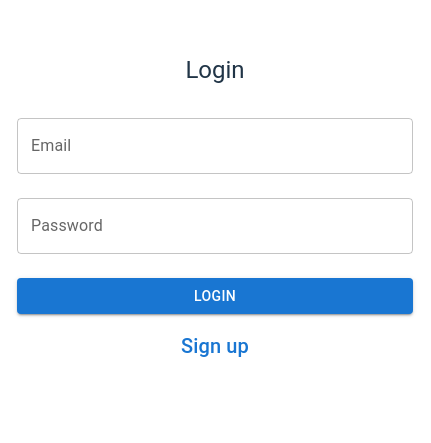
Test: Login › requests signup
What coordinates should you click on to do the following:
click the link "Sign up"
I would click on:
 (215, 346)
Its box is [181,334,249,358].
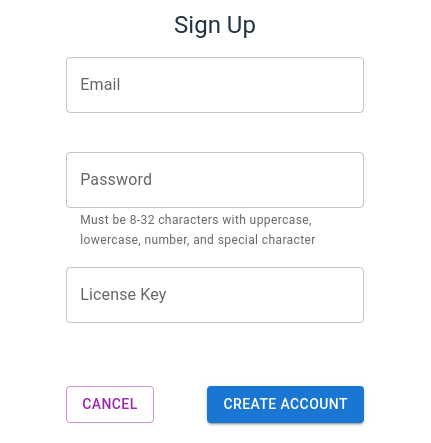
Now the field labelled "Email" is shown, box [66,57,364,113]
Now the password field labelled "Password" is shown, box [66,152,364,208]
Now the field labelled "License Key" is shown, box [66,267,364,323]
